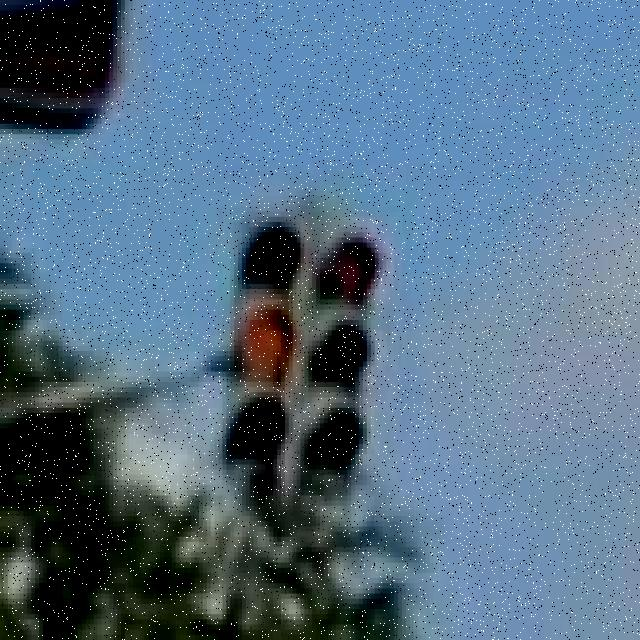Zolte swiatlo: (231, 217, 309, 491)
